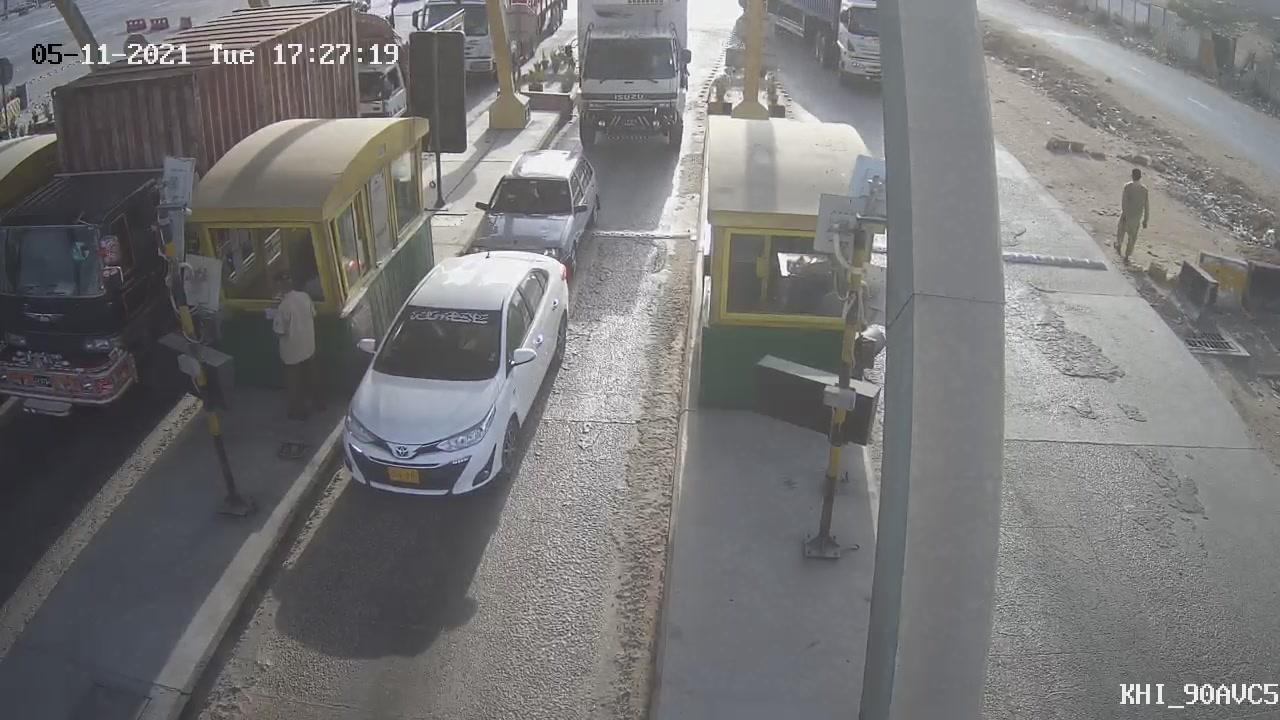F1: (322, 230, 590, 530), (451, 133, 620, 305)
